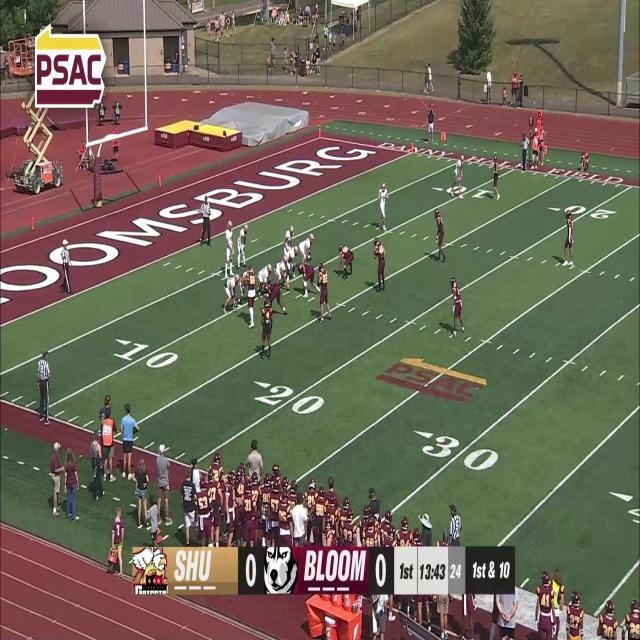football: (286, 284, 290, 291)
